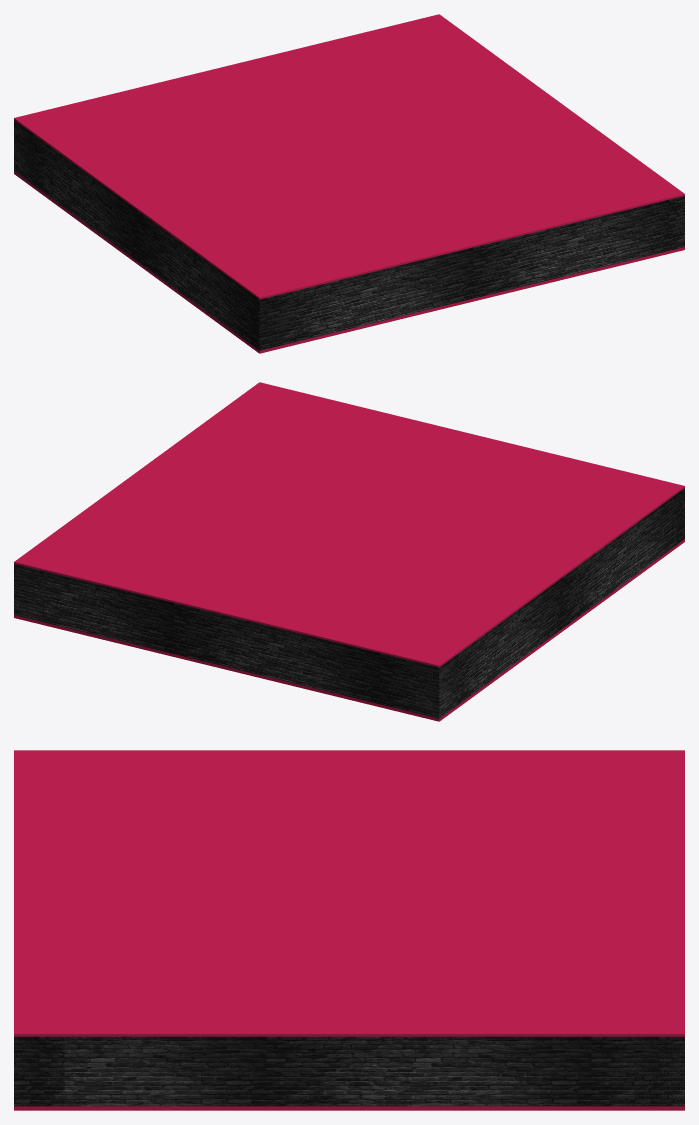
File: map_1.obj
3 views of the same model, one above another, from view 1: azimuth 30°, elevation 25°; view 2: azimuth 150°, elevation 25°; view 3: azimuth 270°, elevation 25° (orthographic). The views are drawn at different scales.
Parts seen in each view (by area): view 1: cube1.014_Cube.031, Cube.002_Cube.006, Cube.005_Cube.016, cube1_Cube.003, Cube.003_Cube.007, Cube.001_Cube.005; view 2: cube1.014_Cube.031, Cube.001_Cube.005, Cube.005_Cube.016, cube1_Cube.003, Cube.003_Cube.007; view 3: cube1.014_Cube.031, Cube.003_Cube.007, Cube.002_Cube.006, Cube.001_Cube.005, cube1_Cube.003.
Boxes of the visible parts, box(x1,y1,x2,y2) form: cube1.014_Cube.031: box(14, 14, 684, 299); Cube.002_Cube.006: box(259, 203, 652, 350); Cube.005_Cube.016: box(32, 134, 291, 350); cube1_Cube.003: box(14, 171, 684, 353); Cube.003_Cube.007: box(653, 196, 684, 254); Cube.001_Cube.005: box(14, 120, 32, 184); cube1.014_Cube.031: box(14, 382, 684, 667); Cube.001_Cube.005: box(14, 564, 457, 718); Cube.005_Cube.016: box(407, 488, 684, 718); cube1_Cube.003: box(14, 539, 684, 721); Cube.003_Cube.007: box(14, 564, 45, 622); cube1.014_Cube.031: box(14, 750, 684, 1036); Cube.003_Cube.007: box(64, 1036, 684, 1106); Cube.002_Cube.006: box(14, 1036, 64, 1106); Cube.001_Cube.005: box(634, 1036, 684, 1106); cube1_Cube.003: box(14, 1106, 684, 1110).
Size of the model in its own units: 600 by 75.5 by 600.
